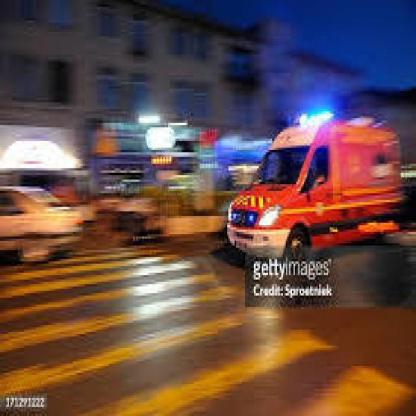priority: (229, 110, 363, 240)
